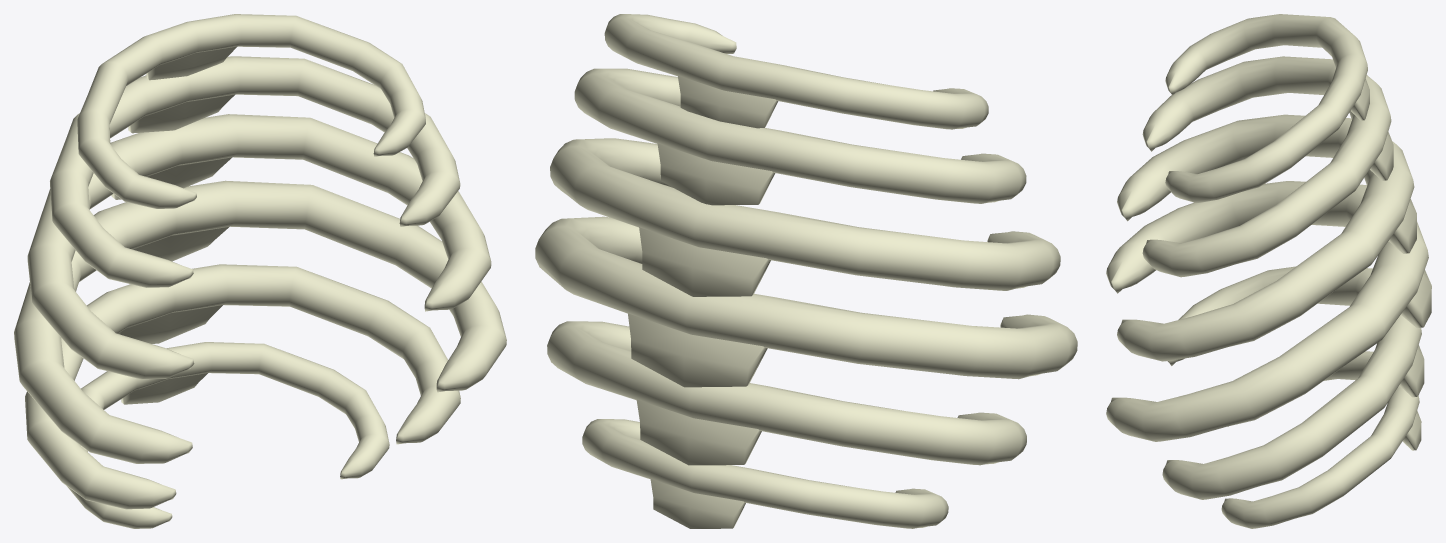
Rendered from DekaiAbara.fbx.
The picture shows the model from 3 angles, left to right: view 1: azimuth 30°, elevation 25°; view 2: azimuth 150°, elevation 25°; view 3: azimuth 270°, elevation 25°; orthographic projection. The views are drawn at different scales.
Parts seen in each view (by area): view 1: pCube2; view 2: pCube2; view 3: pCube2.
Part boxes in pixels (left/top/right/bottom): pCube2: left=14, top=14, right=506, bottom=528; pCube2: left=535, top=14, right=1077, bottom=528; pCube2: left=1106, top=14, right=1431, bottom=528.
Size of the model in its own units: 206 by 190 by 135.
